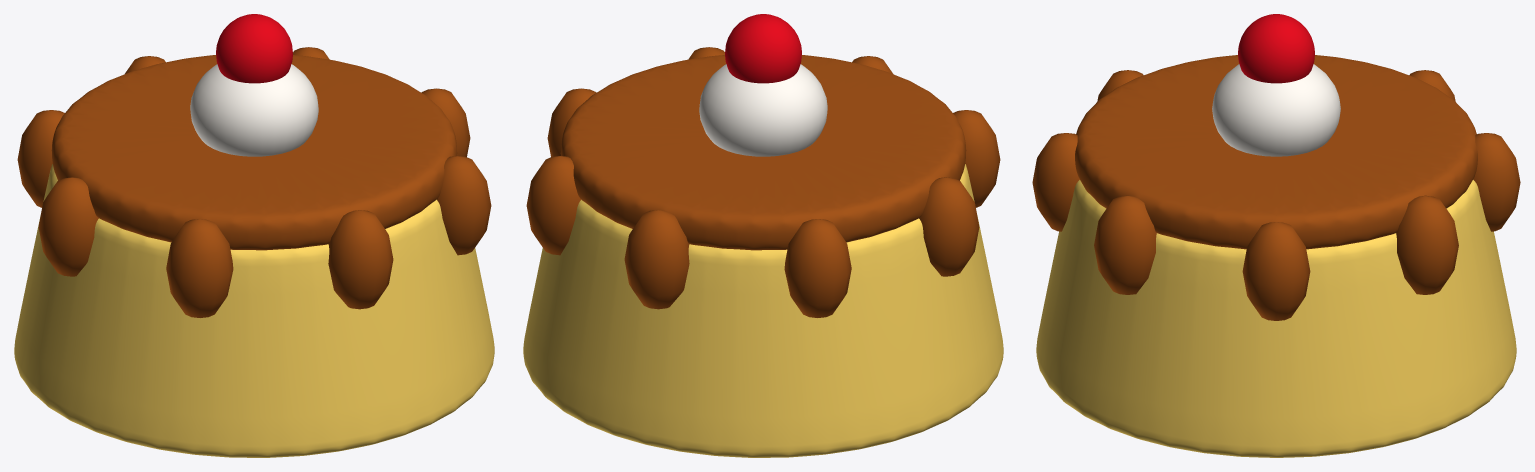
File: Hat_Pudding.glb
3 views of the same model, side by side, from view 1: azimuth 30°, elevation 25°; view 2: azimuth 150°, elevation 25°; view 3: azimuth 270°, elevation 25° (orthographic).
Visible parts, largest first — view 1: Cone, Cylinder, cream, drip.005, drip.006, drip.004, cherry, drip.007, drip.003, drip; view 2: Cone, Cylinder, cream, drip.003, drip.002, drip.004, cherry, drip.001, drip.005, drip; view 3: Cone, Cylinder, cream, drip, drip.001, drip.007, cherry, drip.006, drip.002, drip.003, drip.005.
Part boxes in pixels (x1,y1,x2,y2): Cone: [14, 164, 494, 457]; Cylinder: [51, 55, 457, 250]; cream: [190, 64, 318, 156]; drip.005: [166, 219, 233, 317]; drip.006: [328, 210, 393, 309]; drip.004: [38, 177, 98, 276]; cherry: [216, 14, 292, 83]; drip.007: [437, 156, 491, 255]; drip.003: [17, 110, 64, 207]; drip: [421, 88, 470, 156]; Cone: [523, 164, 1003, 457]; Cylinder: [560, 55, 966, 250]; cream: [699, 64, 827, 156]; drip.003: [784, 219, 851, 317]; drip.002: [624, 210, 689, 309]; drip.004: [919, 177, 979, 276]; cherry: [725, 14, 801, 83]; drip.001: [526, 156, 580, 255]; drip.005: [953, 110, 1000, 207]; drip: [547, 88, 596, 156]; Cone: [1036, 180, 1516, 457]; Cylinder: [1075, 55, 1477, 249]; cream: [1212, 64, 1340, 156]; drip: [1242, 222, 1310, 320]; drip.001: [1396, 195, 1458, 294]; drip.007: [1094, 195, 1156, 294]; cherry: [1238, 14, 1314, 83]; drip.006: [1032, 133, 1079, 231]; drip.002: [1473, 133, 1520, 231]; drip.003: [1409, 70, 1455, 101]; drip.005: [1097, 70, 1143, 101].
Bounding box in the file's own units: 0.72 × 0.559 × 0.72.
